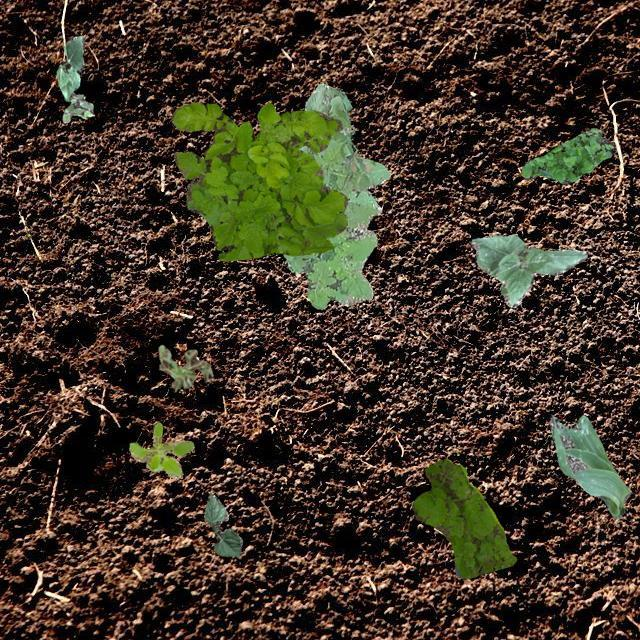crop: (548, 414, 630, 518), (468, 234, 586, 306), (202, 492, 242, 556), (56, 34, 82, 100)
weed: (170, 102, 347, 260), (282, 82, 390, 308), (412, 458, 516, 578), (520, 126, 614, 182), (128, 422, 194, 478), (158, 344, 212, 391), (62, 92, 94, 122)
